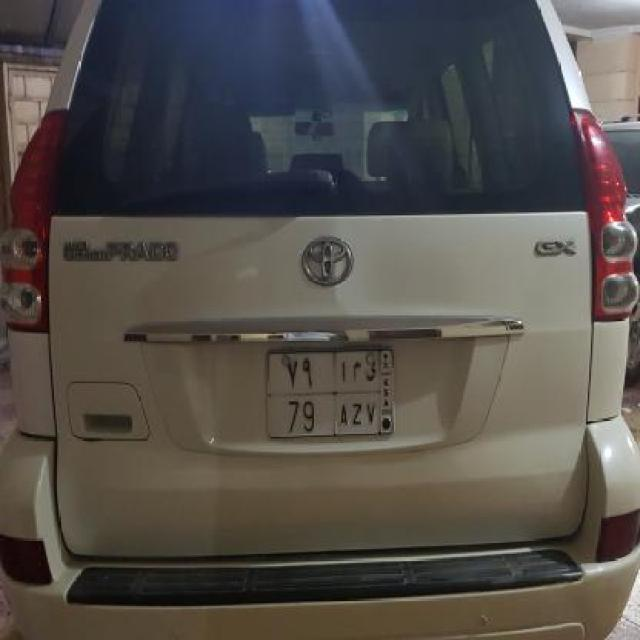license_plate: (263, 347, 399, 442)
